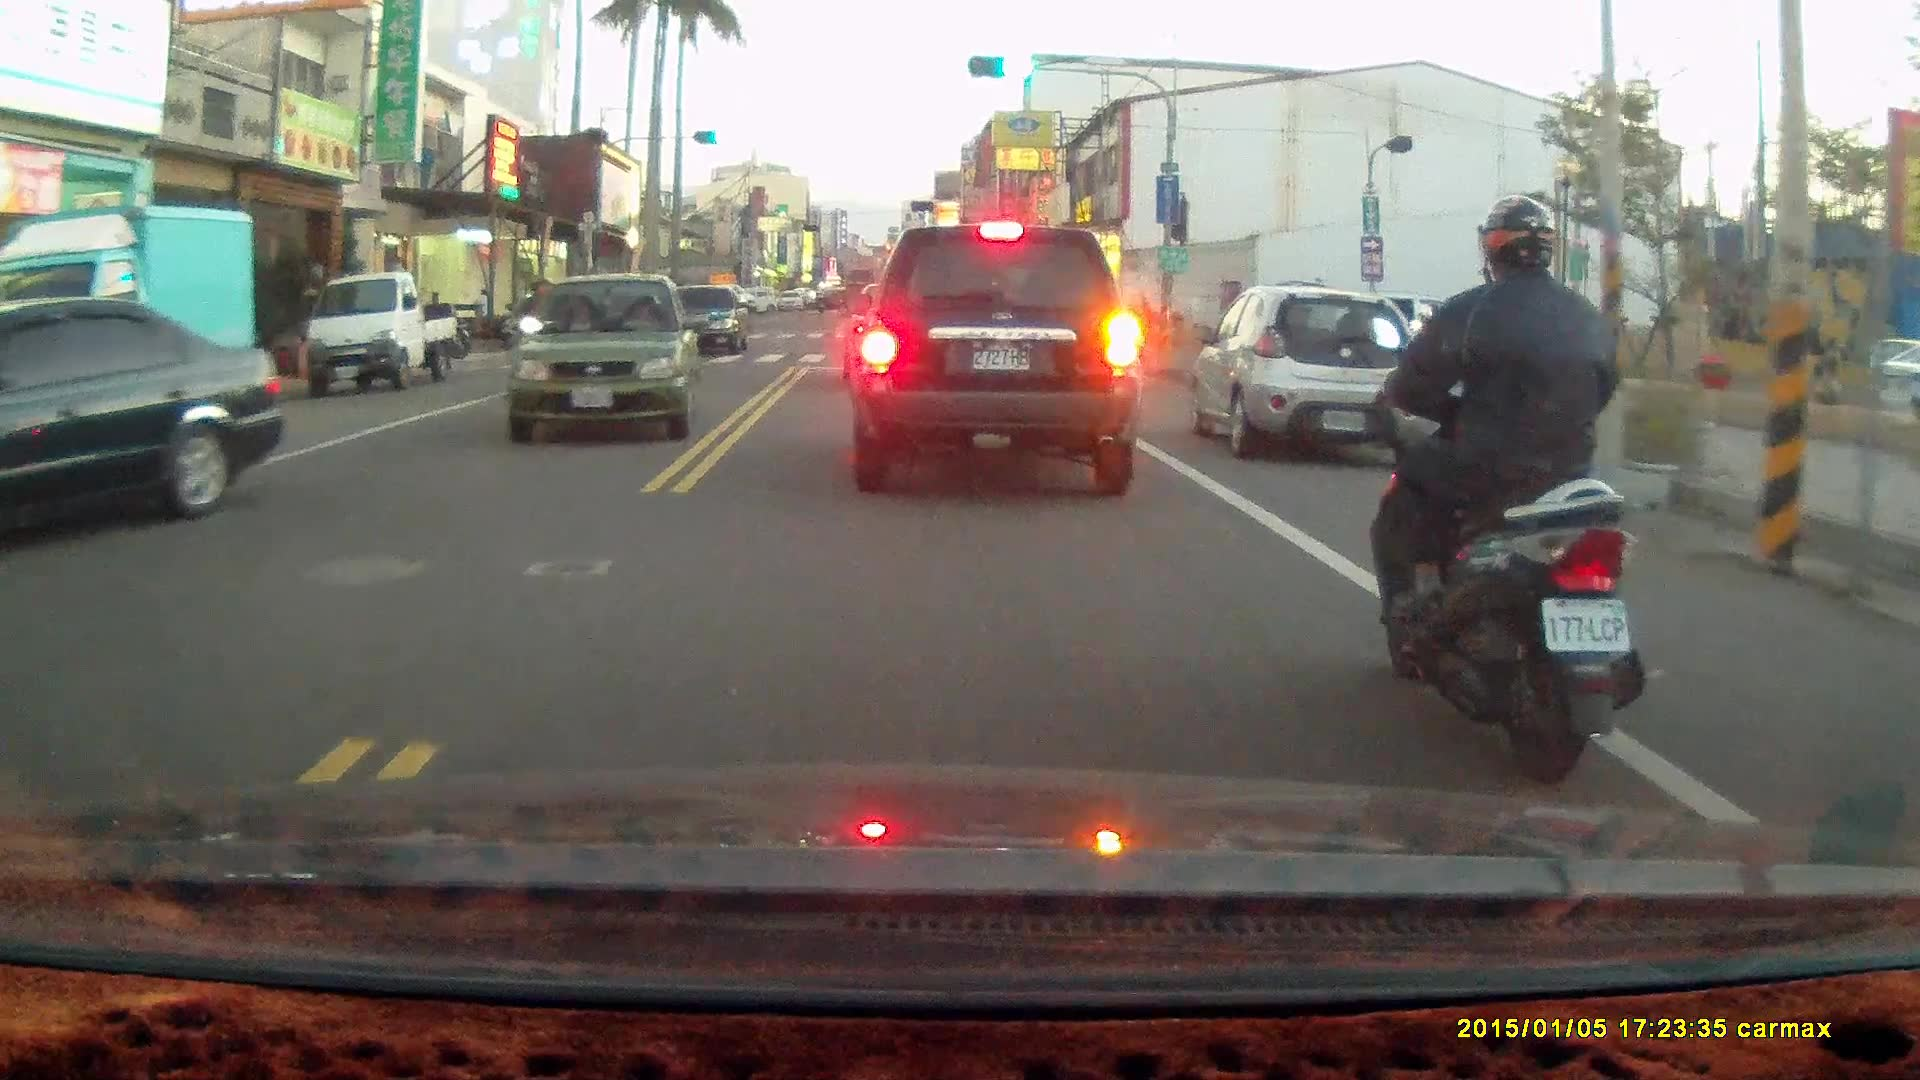rider: (1364, 195, 1647, 789), (507, 279, 558, 368)
vehicle: (851, 222, 1144, 498), (1, 294, 289, 557), (12, 201, 260, 417), (1190, 286, 1438, 463), (506, 269, 701, 440), (298, 268, 460, 395)
